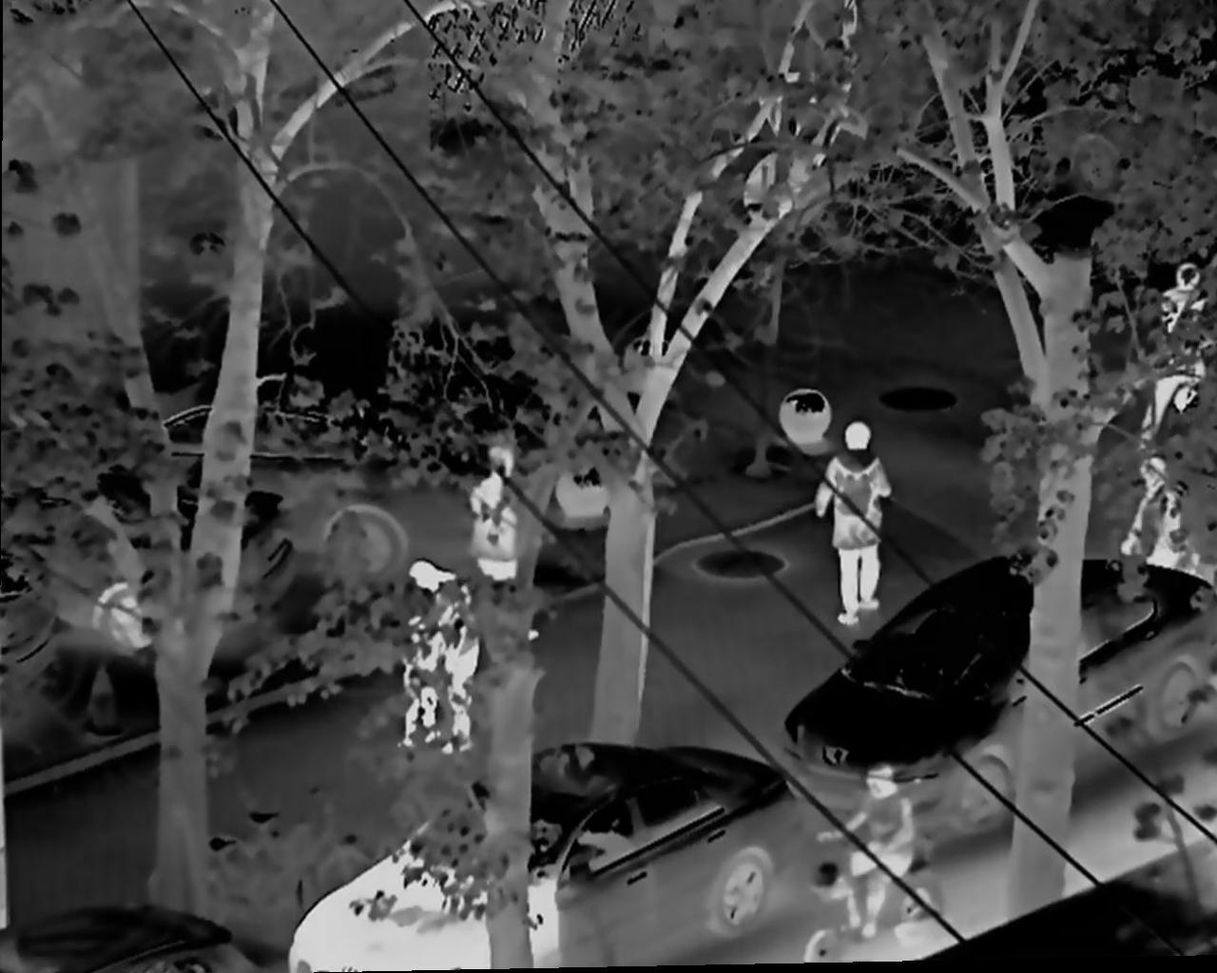person: (814, 412, 887, 639), (819, 763, 909, 935), (1129, 383, 1197, 593), (412, 560, 472, 750), (473, 449, 530, 599), (1169, 267, 1217, 420)
